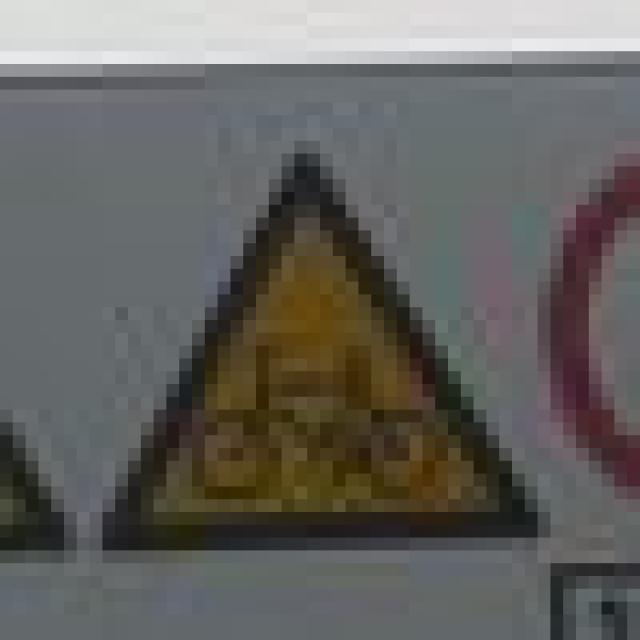cycle_crossing: (90, 128, 524, 538)
